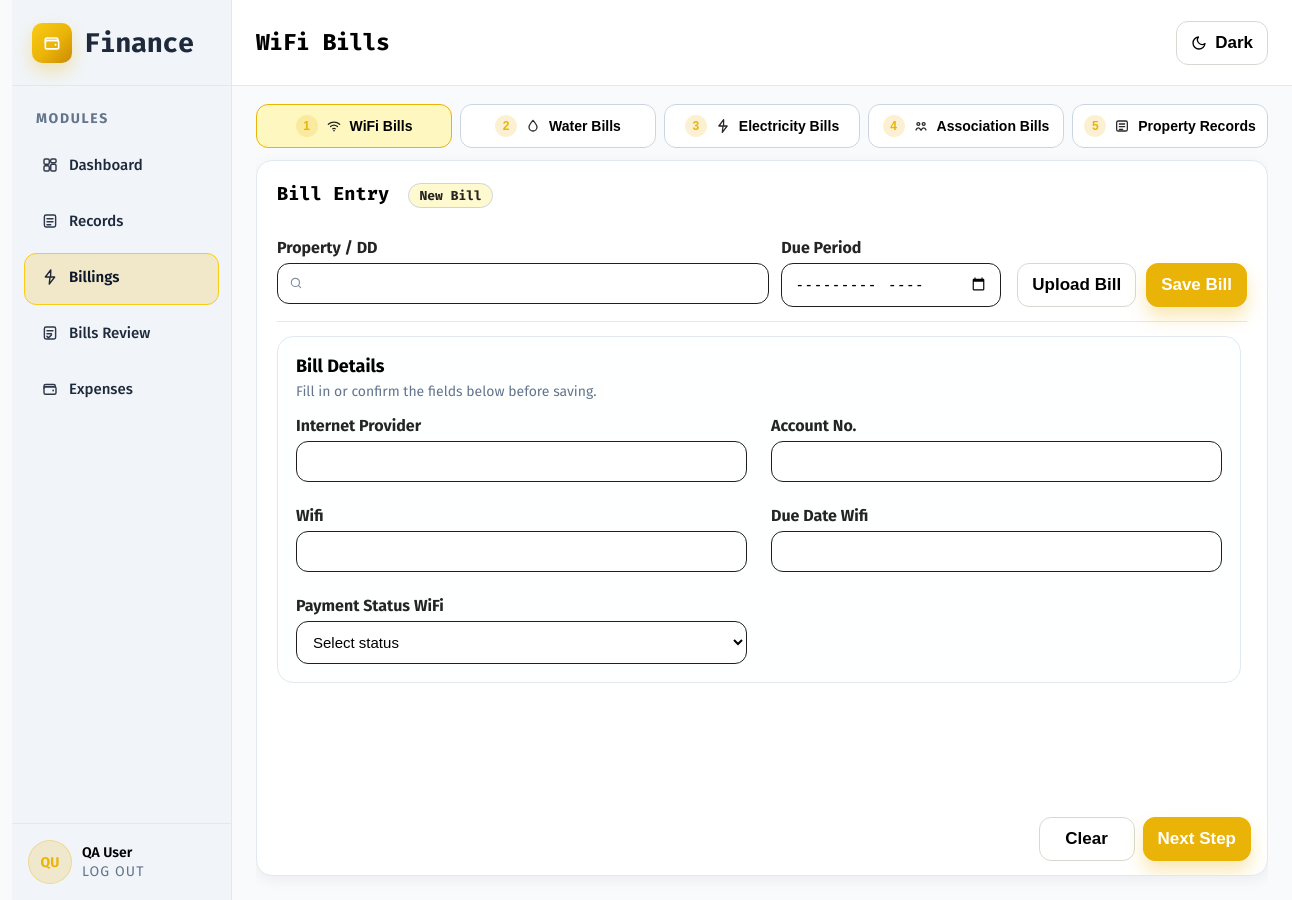
Scenario: Billing flow integration coverage › opens module upload modal from WiFi page instead of navigating to Bill Review
The width and height of the screenshot is (1292, 900).
Step 1. Click the button "Upload Bill" → (1077, 284), box [1017,262,1136,306]
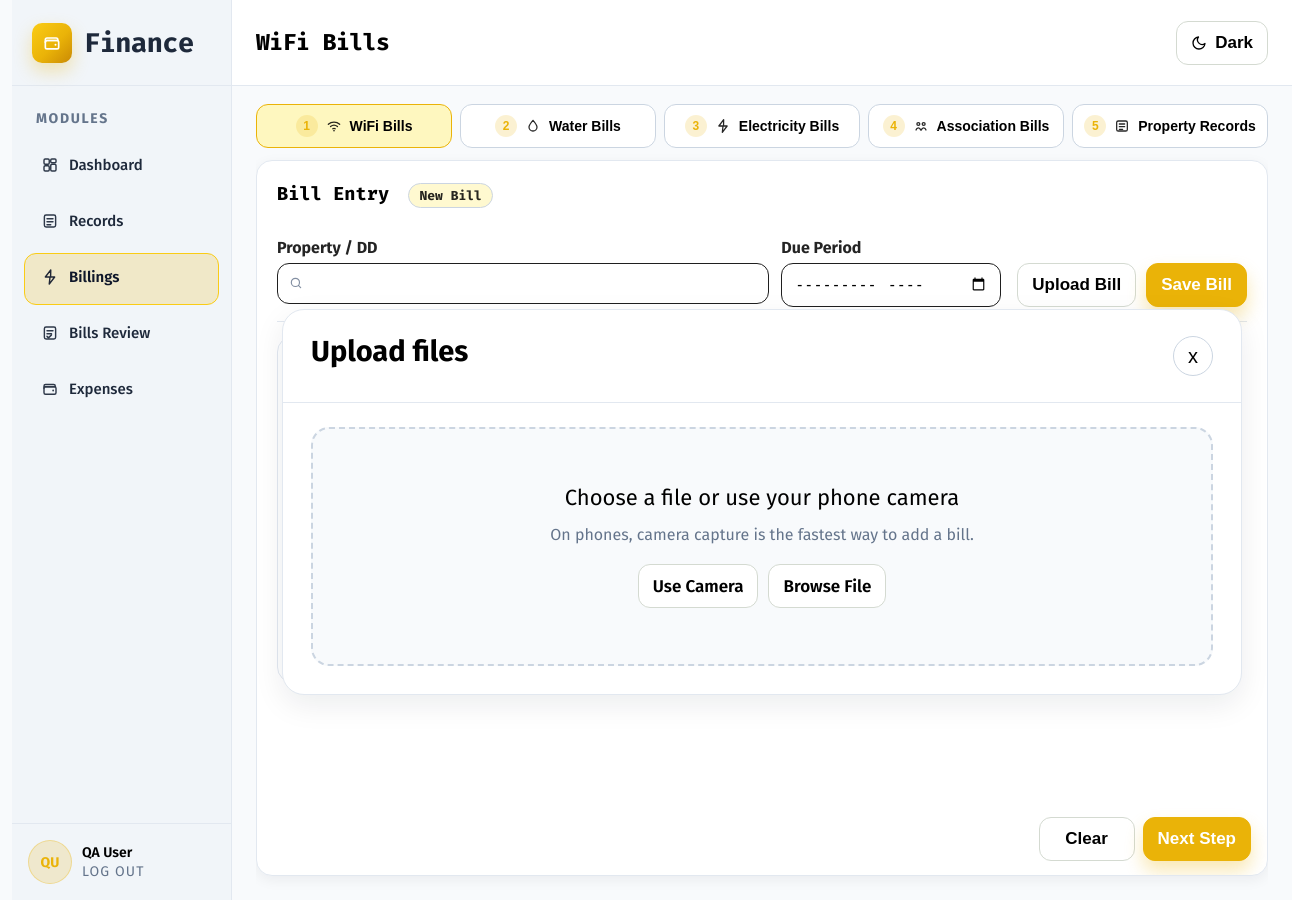
Now the heading "Upload files" is shown, box [311,336,468,368]
